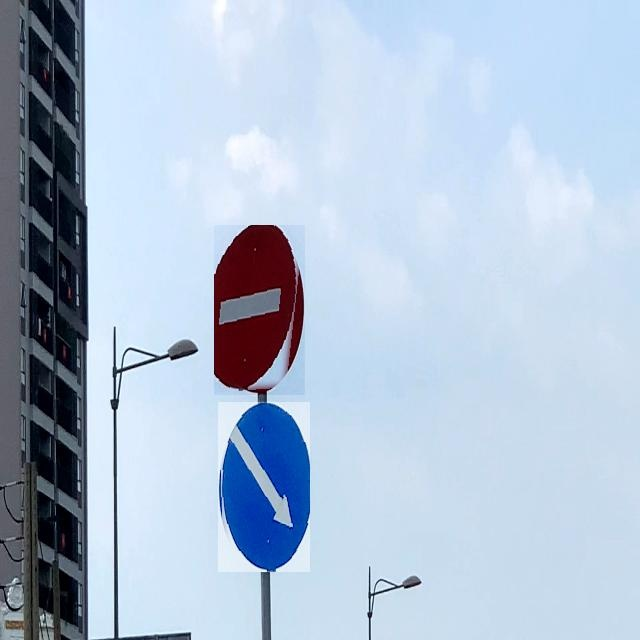bien_cam: (218, 402, 310, 572), (214, 226, 305, 396)
